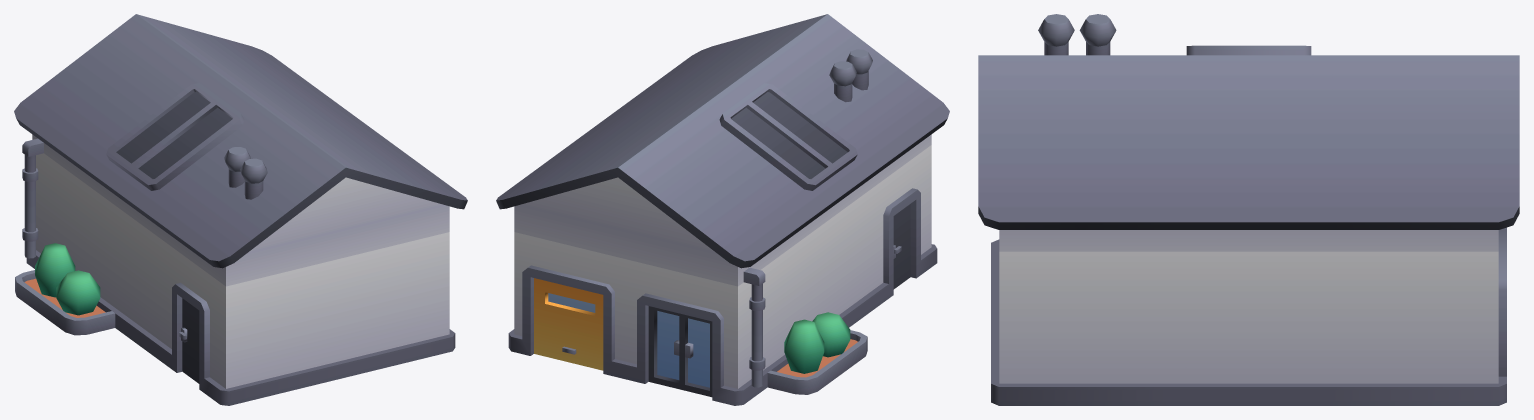
The model's file is building-i.glb.
3 renders of one model, left to right at view 1: azimuth 30°, elevation 25°; view 2: azimuth 150°, elevation 25°; view 3: azimuth 270°, elevation 25°, orthographic. The views are drawn at different scales.
Visible parts, largest first — view 1: building-i; view 2: building-i; view 3: building-i.
Part boxes in pixels (box(x1,y1,x2,y2)): building-i: box(14, 14, 467, 405); building-i: box(496, 14, 949, 405); building-i: box(978, 14, 1519, 405).
Size of the model in its own units: 1.03 by 0.7336 by 1.3.
1 material, 1 textured.
